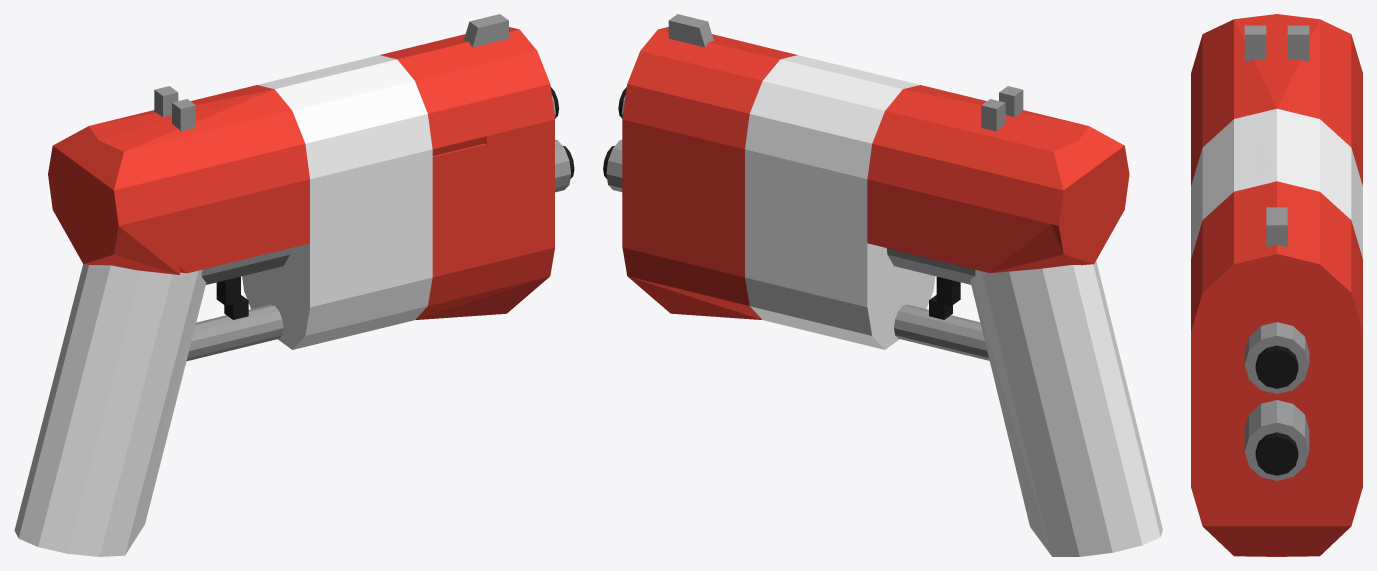
File: Pistolet.glb
The picture shows the model from 3 angles, left to right: view 1: azimuth 30°, elevation 25°; view 2: azimuth 150°, elevation 25°; view 3: azimuth 270°, elevation 25°; orthographic projection. The views are drawn at different scales.
Visible parts, largest first — view 1: group2097682244, group44329988, group1242099332, group1590993060, group1789953270, group1519413501, group2099629057, group1811951939, group1599906671, group1900673744, group1028726679, group350372961 (+12 smaller); view 2: group2097682244, group44329988, group1242099332, group1590993060, group1519413501, group1789953270, group2099629057, group2094820599, group1862417350, group1039666238, group1234964339, group1792466714 (+11 smaller); view 3: group1590993060, group1242099332, group2099629057, group44329988, group1519413501, group1039666238, group2144076176, group1234964339, group226267103, group1733146772, group833078824, group1653484371 (+5 smaller).
Boxes of the visible parts, left/top/right/bottom form: group2097682244: left=14, top=264, right=206, bottom=556; group44329988: left=48, top=89, right=273, bottom=254; group1242099332: left=258, top=55, right=432, bottom=179; group1590993060: left=380, top=27, right=554, bottom=155; group1789953270: left=242, top=271, right=432, bottom=349; group1519413501: left=146, top=85, right=309, bottom=195; group2099629057: left=415, top=248, right=554, bottom=319; group1811951939: left=274, top=228, right=371, bottom=307; group1599906671: left=371, top=149, right=432, bottom=228; group1900673744: left=371, top=213, right=432, bottom=292; group1028726679: left=310, top=164, right=371, bottom=243; group350372961: left=187, top=194, right=248, bottom=272; group2097682244: left=970, top=261, right=1162, bottom=556; group44329988: left=903, top=89, right=1129, bottom=254; group1242099332: left=745, top=55, right=919, bottom=178; group1590993060: left=622, top=27, right=797, bottom=149; group1519413501: left=867, top=85, right=1007, bottom=208; group1789953270: left=745, top=271, right=935, bottom=349; group2099629057: left=622, top=248, right=761, bottom=319; group2094820599: left=990, top=200, right=1094, bottom=273; group1862417350: left=806, top=228, right=902, bottom=307; group1039666238: left=622, top=119, right=683, bottom=198; group1234964339: left=622, top=183, right=683, bottom=262; group1792466714: left=683, top=134, right=744, bottom=213; group1590993060: left=1191, top=181, right=1362, bottom=403; group1242099332: left=1191, top=108, right=1362, bottom=258; group2099629057: left=1191, top=439, right=1362, bottom=556; group44329988: left=1191, top=14, right=1362, bottom=144; group1519413501: left=1191, top=47, right=1362, bottom=185; group1039666238: left=1277, top=331, right=1362, bottom=409; group2144076176: left=1191, top=409, right=1276, bottom=487; group1234964339: left=1278, top=409, right=1362, bottom=487; group226267103: left=1191, top=341, right=1276, bottom=418; group1733146772: left=1244, top=400, right=1309, bottom=480; group833078824: left=1244, top=322, right=1309, bottom=393; group1653484371: left=1255, top=432, right=1298, bottom=475.
Bounding box in the file's own units: 0.7157 × 0.5349 × 0.16.
